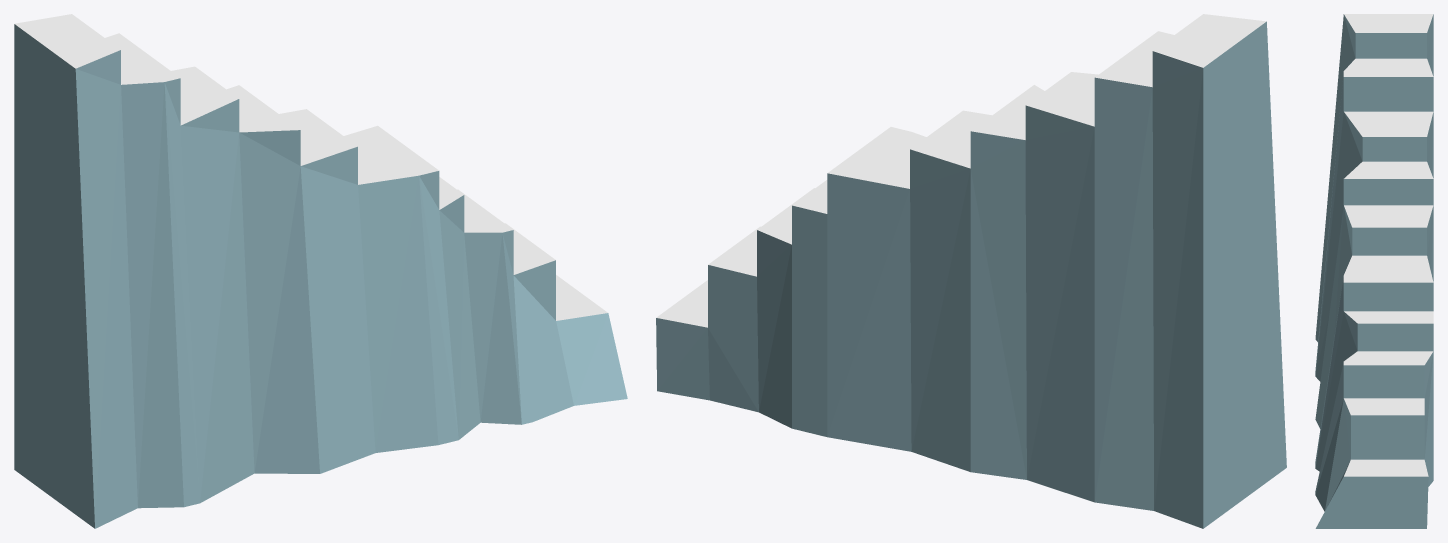
Rendered from Terrain_Tile_Ice_Snow_Stairs_02.fbx.
3 renders of one model, left to right at view 1: azimuth 30°, elevation 25°; view 2: azimuth 150°, elevation 25°; view 3: azimuth 270°, elevation 25°, orthographic. The views are drawn at different scales.
Parts seen in each view (by area): view 1: Terrain_Tile_Ice_Snow_Stairs_02; view 2: Terrain_Tile_Ice_Snow_Stairs_02; view 3: Terrain_Tile_Ice_Snow_Stairs_02.
Boxes of the visible parts, left/top/right/bottom form: Terrain_Tile_Ice_Snow_Stairs_02: left=14, top=14, right=627, bottom=528; Terrain_Tile_Ice_Snow_Stairs_02: left=656, top=14, right=1286, bottom=528; Terrain_Tile_Ice_Snow_Stairs_02: left=1315, top=14, right=1433, bottom=528.
Size of the model in its own units: 157 by 126 by 41.44.
